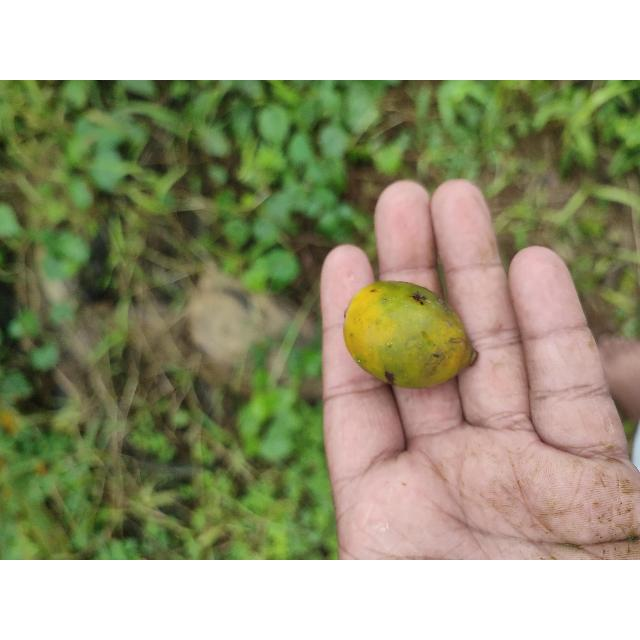good: (342, 281, 478, 390)
